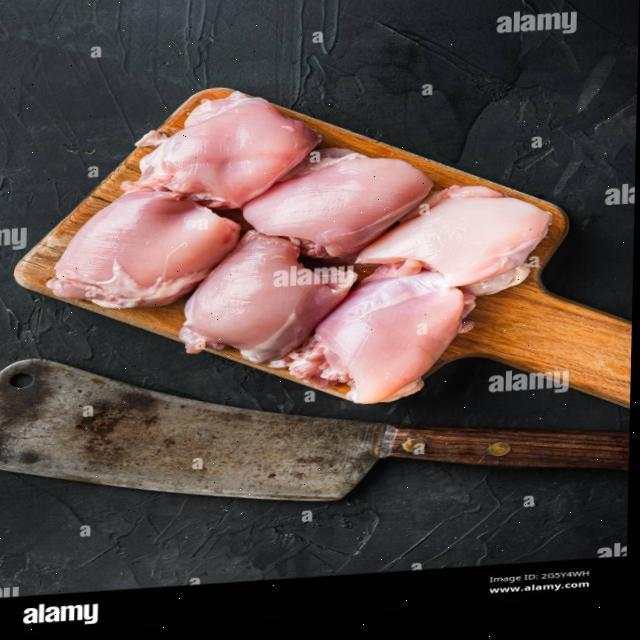thigh: (324, 201, 576, 302), (239, 147, 462, 260), (127, 92, 310, 212), (89, 180, 241, 319), (303, 282, 473, 406), (182, 244, 310, 388)
